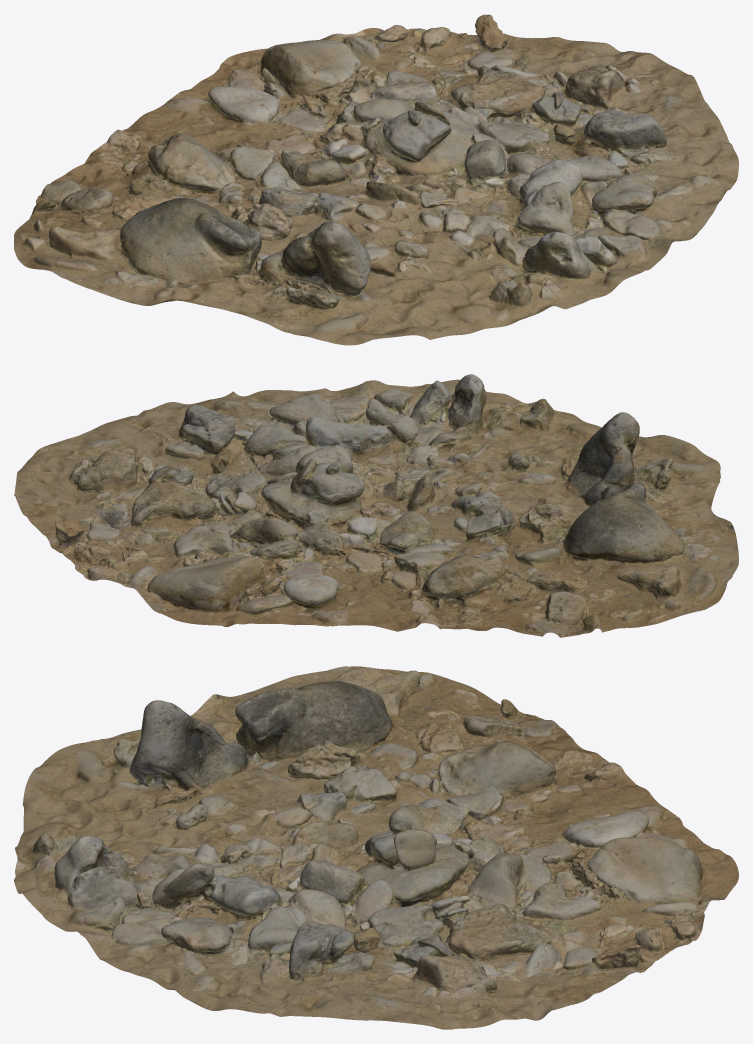
File: sand_rocks_small_01.glb
3 renders of one model, top to bottom at view 1: azimuth 30°, elevation 25°; view 2: azimuth 150°, elevation 25°; view 3: azimuth 270°, elevation 25°, orthographic. The views are drawn at different scales.
Parts seen in each view (by area): view 1: sand_rocks_small_01_LOD0; view 2: sand_rocks_small_01_LOD0; view 3: sand_rocks_small_01_LOD0.
Boxes of the visible parts, x1,y1,x2,y2 form: sand_rocks_small_01_LOD0: (14,14,738,345); sand_rocks_small_01_LOD0: (14,374,738,637); sand_rocks_small_01_LOD0: (14,666,738,1029).
Bounding box in the file's own units: 4.63 × 0.5349 × 3.88.
Materials: 1 (1 with a texture image).
